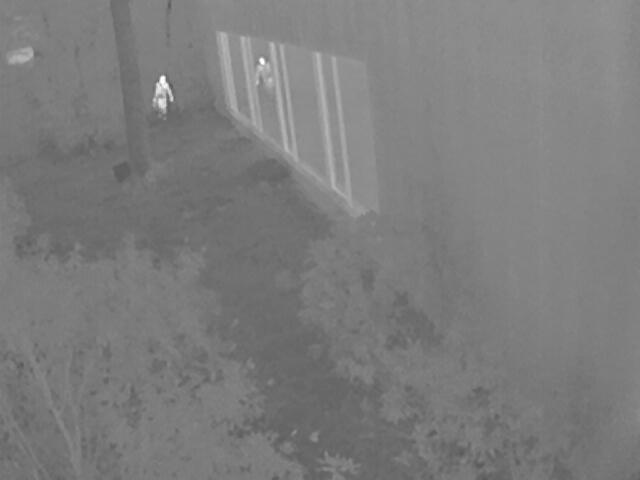person: (152, 74, 171, 119), (252, 56, 274, 90)
